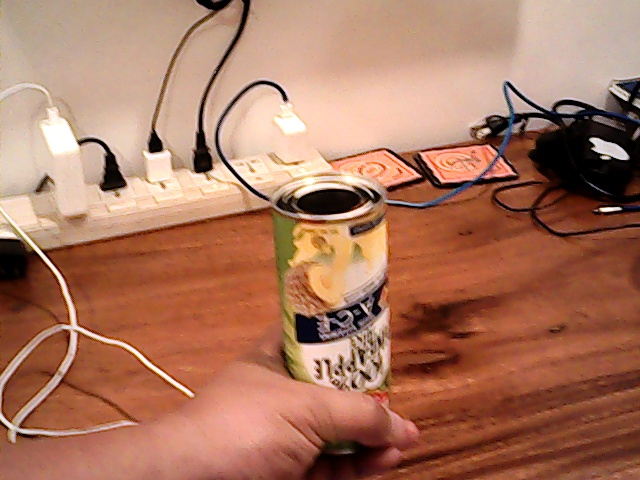Pine Juice: (261, 152, 397, 411)
